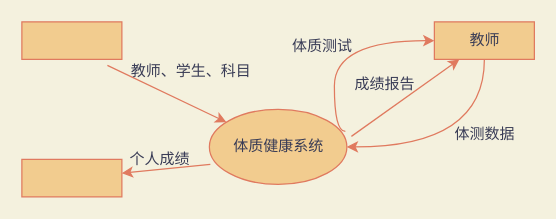
This 556x219 diagram has some shape labels left out. Here are the shapes that lost their labels. From the top down, the centre of each, then its label:
At point (71, 40): "管理员".
At point (71, 177): "学生".
